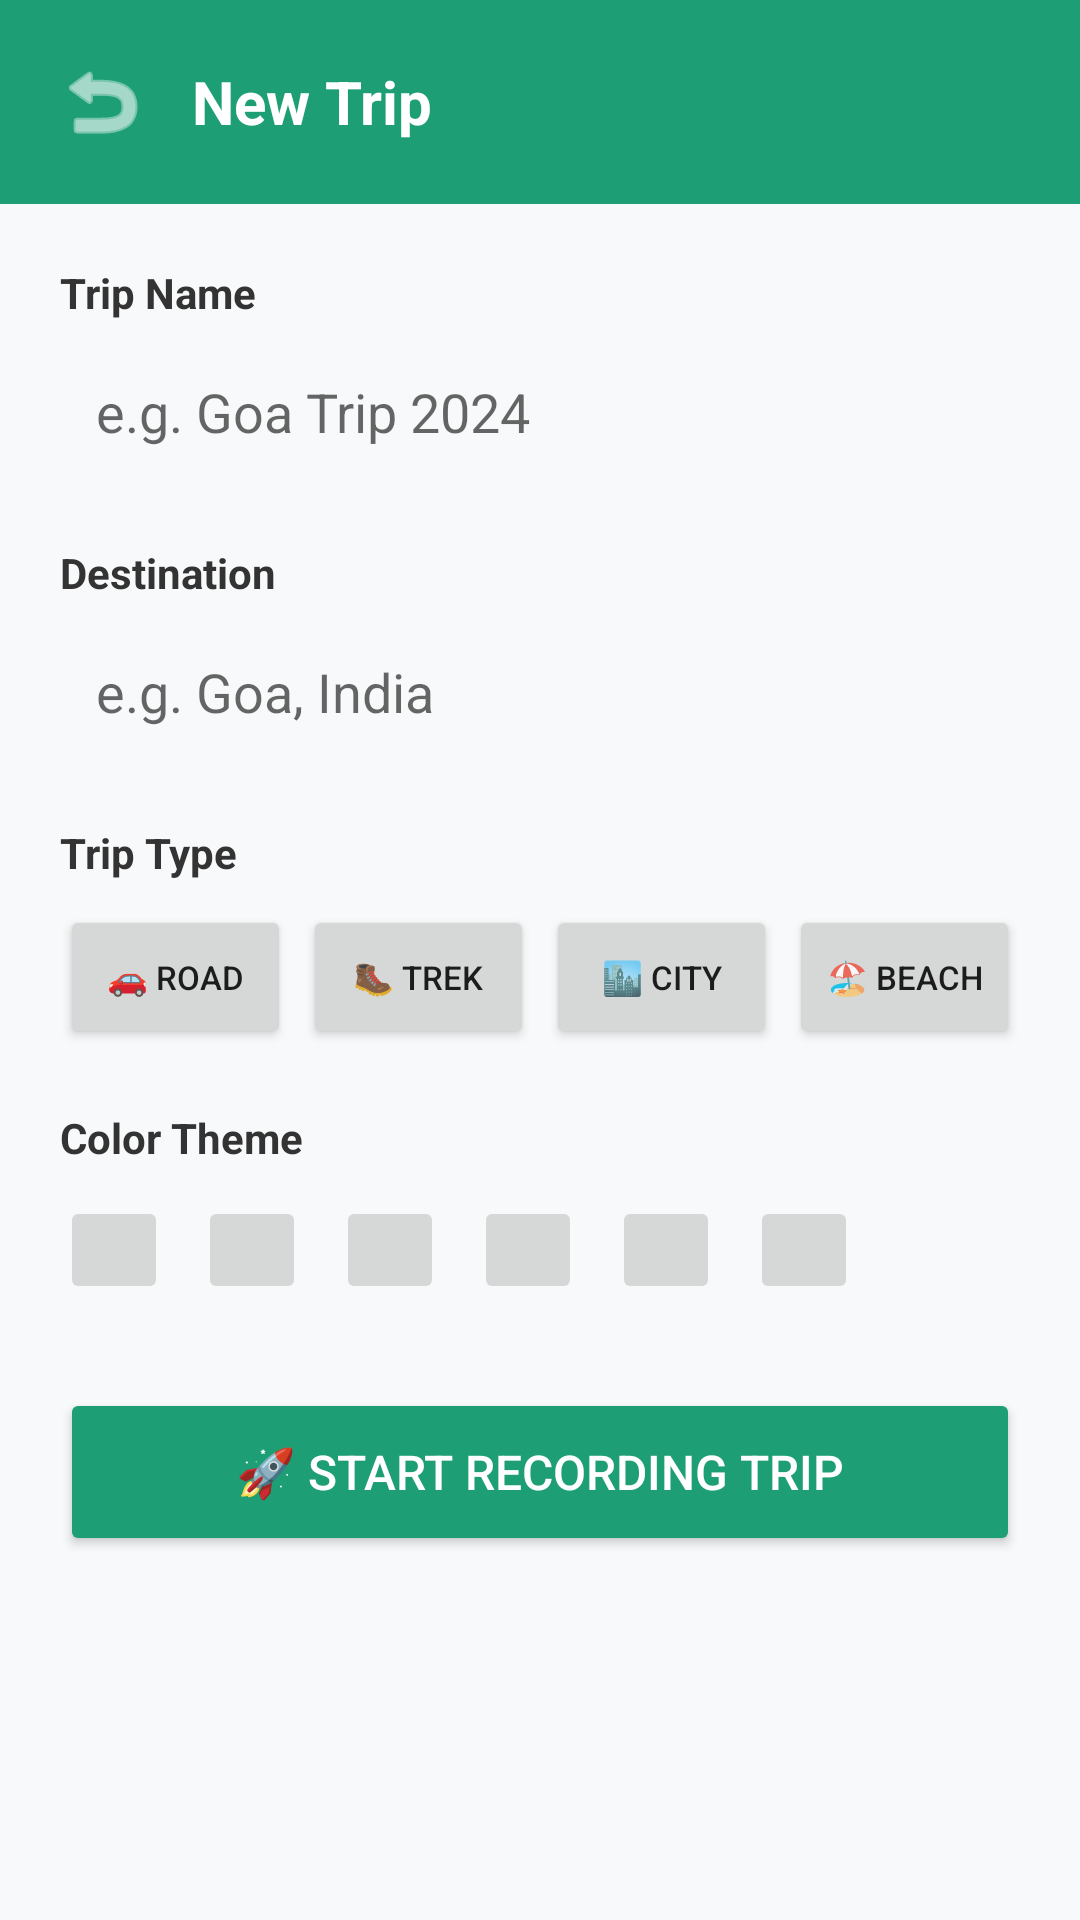

Named icons in this screenshot (1080 × 1920) and their centers, [x,y]:
Back: [103,102]
